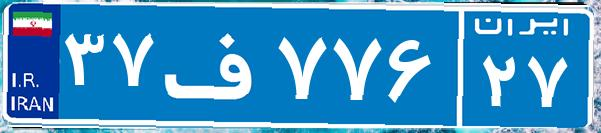2: (475, 38, 525, 113)
3: (57, 26, 110, 107)
6: (385, 28, 445, 110)
7: (273, 28, 330, 110), (330, 28, 385, 110), (110, 28, 158, 105), (525, 38, 570, 115)
ف: (158, 15, 273, 115)
